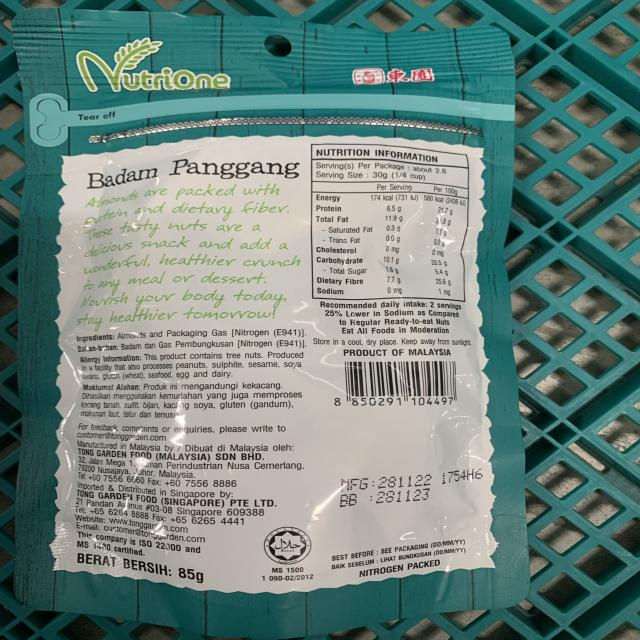object_name: (14, 15, 520, 613)
